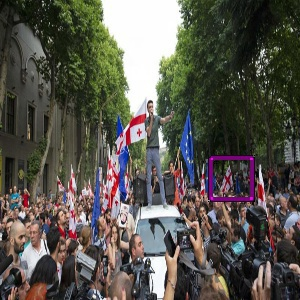square: (208, 153, 257, 203)
